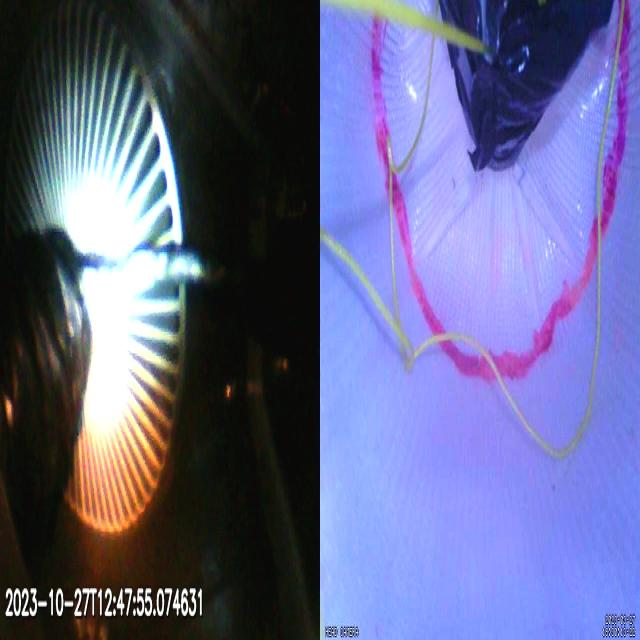red-circle: (370, 0, 630, 381)
